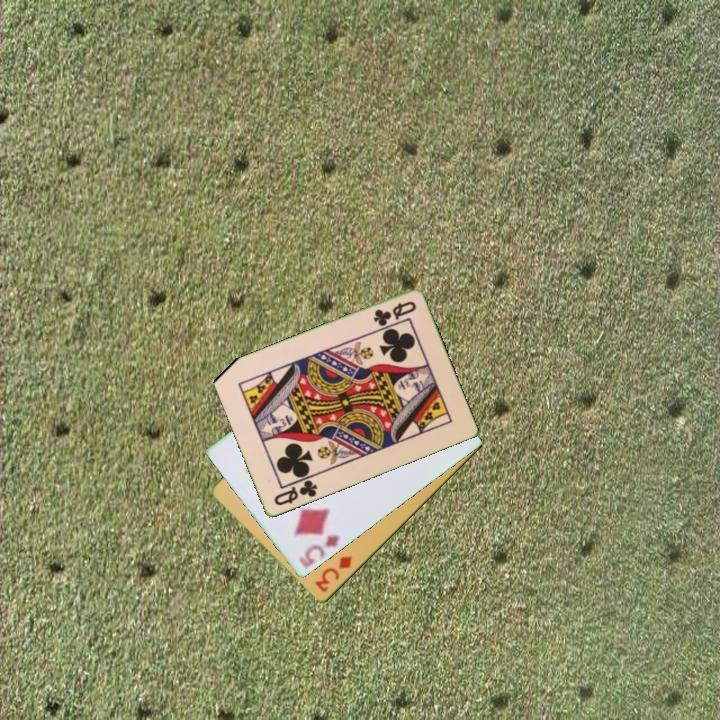3d: (312, 552, 356, 596)
5d: (294, 531, 343, 571)
Qc: (270, 477, 321, 509), (369, 298, 419, 329)
